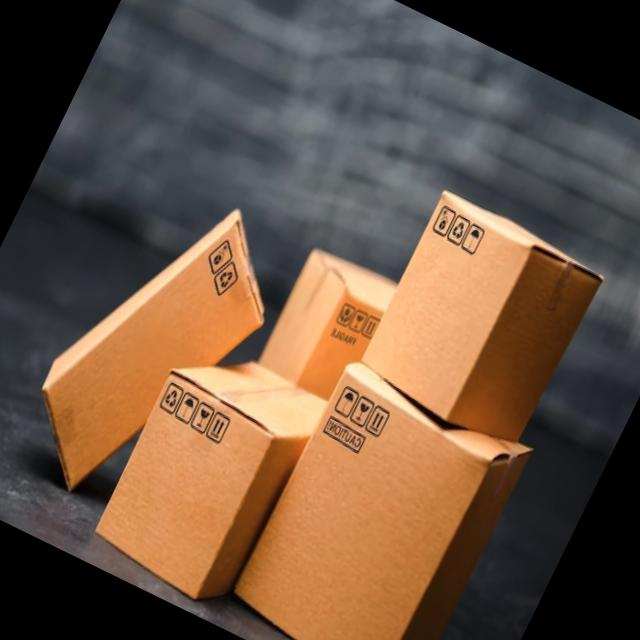Kardus: (0, 64, 622, 640), (4, 162, 306, 536), (219, 353, 536, 640), (84, 327, 331, 614), (350, 186, 610, 458), (254, 241, 401, 408)
